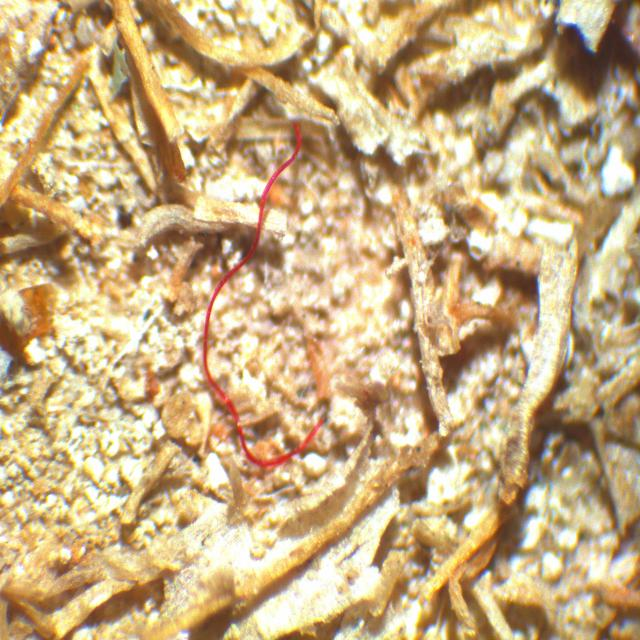microplastic: (202, 119, 326, 471)
